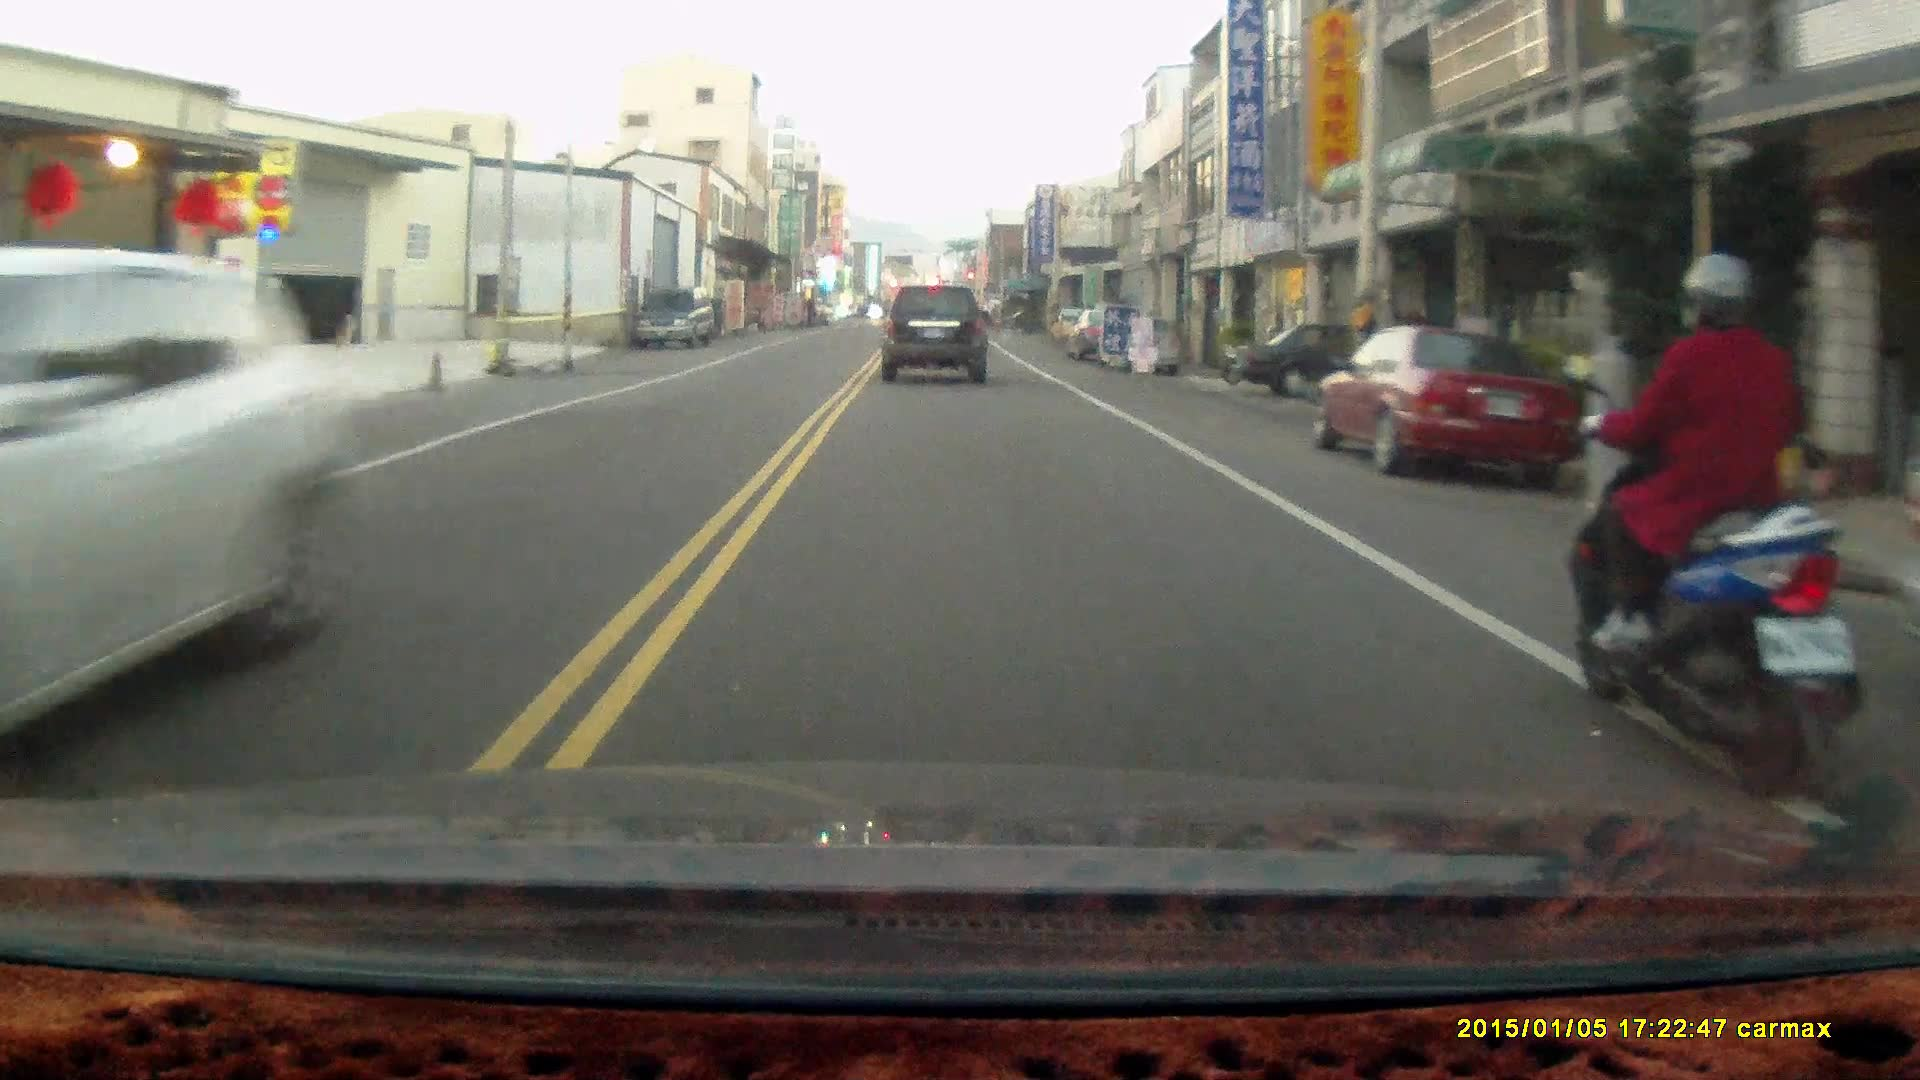rider: (1563, 243, 1864, 807)
vehicle: (1, 245, 345, 790), (1320, 317, 1585, 492), (1226, 320, 1444, 402), (882, 280, 991, 384), (632, 288, 720, 351)
